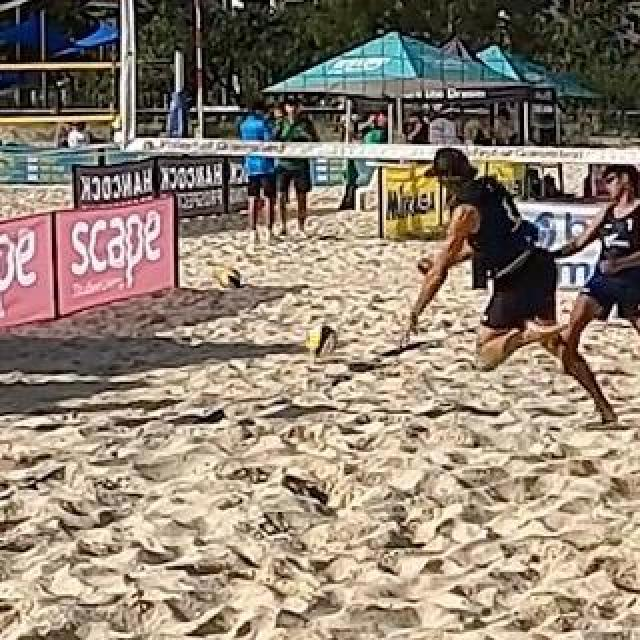volleyball: (306, 324, 336, 354), (218, 268, 240, 290)
